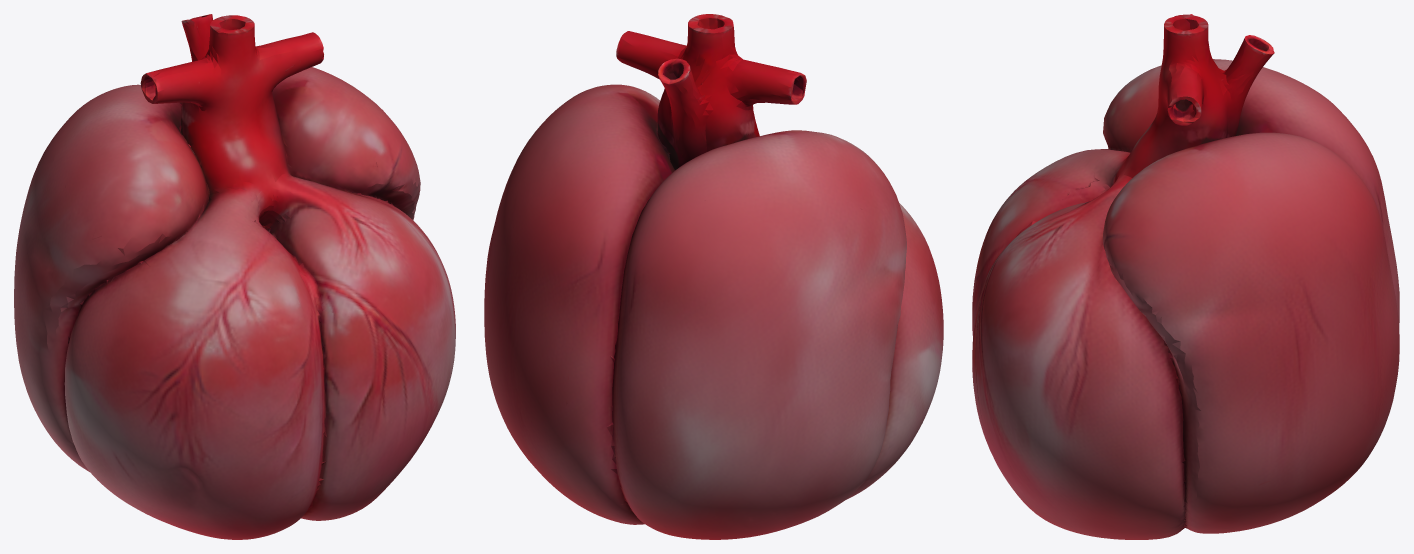
File: enlarged_heart_dcm.glb
The picture shows the model from 3 angles, left to right: view 1: azimuth 30°, elevation 25°; view 2: azimuth 150°, elevation 25°; view 3: azimuth 270°, elevation 25°; orthographic projection. The views are drawn at different scales.
Parts seen in each view (by area): view 1: model; view 2: model; view 3: model.
Boxes of the visible parts, x1,y1,x2,y2 form: model: [14, 14, 455, 539]; model: [484, 14, 943, 539]; model: [972, 14, 1399, 539].
Size of the model in its own units: 1.58 by 1.9 by 1.53.
1 material, 1 textured.
